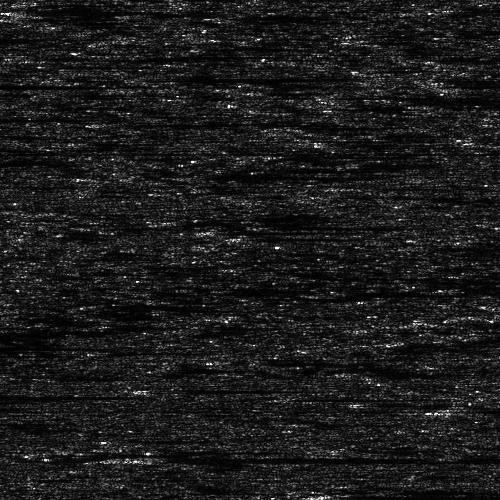rock: (404, 102, 445, 107), (409, 76, 450, 81), (105, 74, 136, 79)
shadow: (121, 74, 287, 79), (425, 102, 500, 107), (430, 76, 490, 81)
